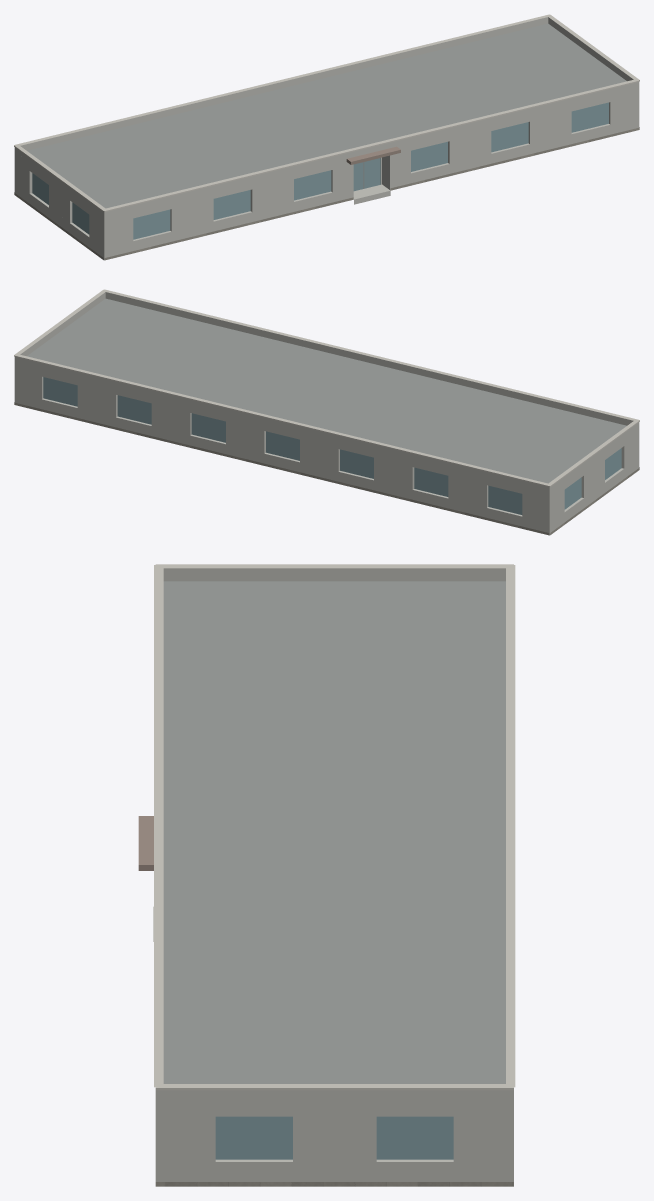
The picture shows the model from 3 angles, top to bottom: view 1: azimuth 30°, elevation 25°; view 2: azimuth 150°, elevation 25°; view 3: azimuth 270°, elevation 25°; orthographic projection. The views are drawn at different scales.
Parts seen in each view (by area): view 1: osm897850554__roof, osm897850554__wall, osm897850554__parapet, osm897850554__glass, osm897850554__trim, osm897850554__base, osm897850554__entranceThreshold_0, osm897850554__canopy; view 2: osm897850554__roof, osm897850554__wall, osm897850554__parapet, osm897850554__glass, osm897850554__trim, osm897850554__base; view 3: osm897850554__roof, osm897850554__wall, osm897850554__trim, osm897850554__parapet, osm897850554__glass, osm897850554__base, osm897850554__canopy.
Boxes of the visible parts, box(x1,y1,x2,y2) form: osm897850554__roof: box(27, 23, 626, 208); osm897850554__wall: box(14, 87, 639, 260); osm897850554__parapet: box(14, 17, 639, 217); osm897850554__glass: box(32, 102, 608, 239); osm897850554__trim: box(14, 14, 639, 211); osm897850554__base: box(14, 127, 639, 260); osm897850554__entranceThreshold_0: box(353, 184, 390, 204); osm897850554__canopy: box(346, 146, 400, 164); osm897850554__roof: box(27, 298, 626, 535); osm897850554__wall: box(14, 362, 639, 535); osm897850554__parapet: box(14, 292, 639, 492); osm897850554__glass: box(43, 377, 621, 514); osm897850554__trim: box(14, 289, 639, 486); osm897850554__base: box(14, 402, 639, 535); osm897850554__roof: box(163, 581, 505, 1083); osm897850554__wall: box(155, 1100, 513, 1181); osm897850554__trim: box(154, 564, 515, 1090); osm897850554__parapet: box(155, 568, 513, 1100); osm897850554__glass: box(215, 1116, 453, 1159); osm897850554__base: box(155, 1182, 513, 1186); osm897850554__canopy: box(138, 816, 153, 870).
Size of the model in its own units: 47.08 by 4.55 by 14.33.
Materials: 10 (1 with a texture image).
